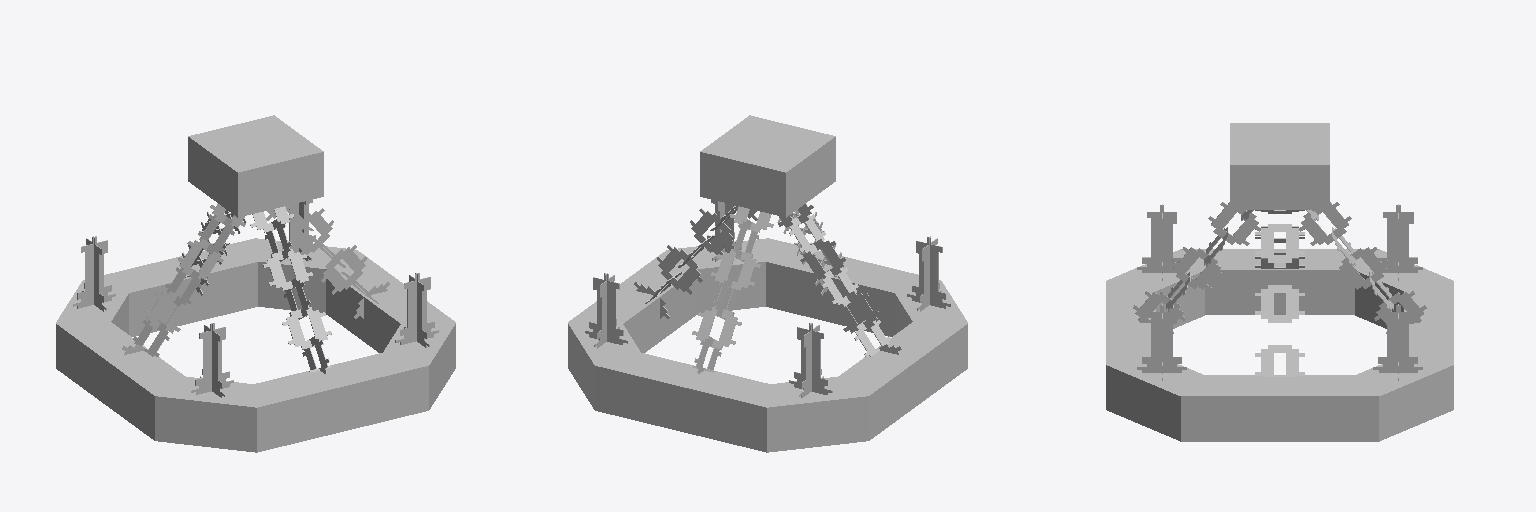
The model's file is ceiling1.obj.
3 renders of one model, left to right at view 1: azimuth 30°, elevation 25°; view 2: azimuth 150°, elevation 25°; view 3: azimuth 270°, elevation 25°, orthographic.
Parts seen in each view (by area): view 1: Box004, 19, 15, 17, 08, 13, 10, 04; view 2: Box004, 19, 06, 17, 13, 10, 04, 08; view 3: Box004, 17, 15, 06, 04, 08, 13, 10, 19.
Part boxes in pixels (x1,y1,x2,y2): Box004: (56,115,455,452); 19: (122,204,245,356); 15: (250,206,331,373); 17: (266,204,389,318); 08: (395,273,438,347); 13: (73,236,115,311); 10: (191,323,233,397); 04: (282,200,315,261); Box004: (568,115,967,452); 19: (778,204,901,356); 06: (692,206,773,373); 17: (634,204,757,318); 13: (789,323,832,397); 10: (907,236,950,311); 04: (585,273,627,348); 08: (707,200,741,261); Box004: (1106,123,1453,441); 17: (1255,224,1304,376); 15: (1133,202,1260,333); 06: (1299,202,1426,333); 04: (1373,304,1422,380); 08: (1137,304,1186,380); 13: (1378,204,1422,280); 10: (1137,204,1181,280); 19: (1255,210,1304,268).
Size of the model in its own units: 0.875 by 0.6212 by 0.875.